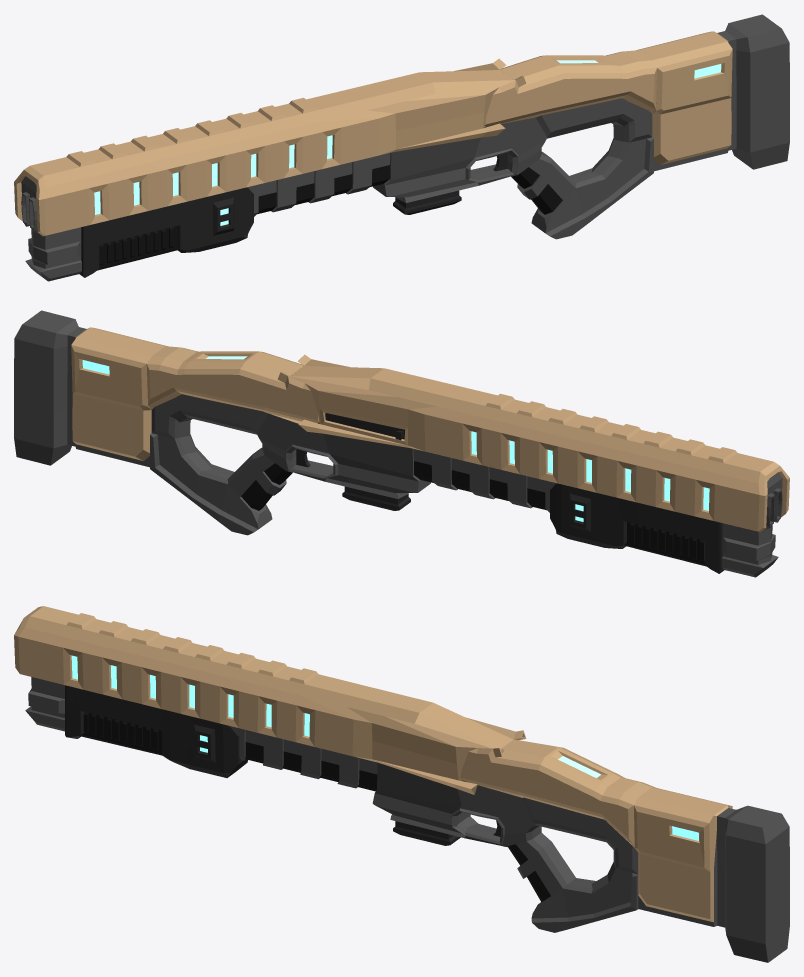
Rendered from scifi_shotgun.fbx.
3 renders of one model, top to bottom at view 1: azimuth 30°, elevation 25°; view 2: azimuth 150°, elevation 25°; view 3: azimuth 330°, elevation 25°, orthographic.
Parts seen in each view (by area): view 1: gun_body, pump, mag; view 2: gun_body, pump, mag, eject; view 3: gun_body, pump, mag.
Boxes of the visible parts, x1,y1,x2,y2 form: gun_body: [14, 14, 789, 281]; pump: [79, 187, 253, 277]; mag: [393, 190, 461, 214]; gun_body: [14, 310, 789, 577]; pump: [550, 483, 724, 573]; mag: [342, 486, 410, 510]; eject: [325, 413, 404, 440]; gun_body: [14, 606, 789, 962]; pump: [65, 685, 247, 777]; mag: [393, 821, 460, 845].
Size of the model in its own units: 140 by 33.86 by 11.19.
